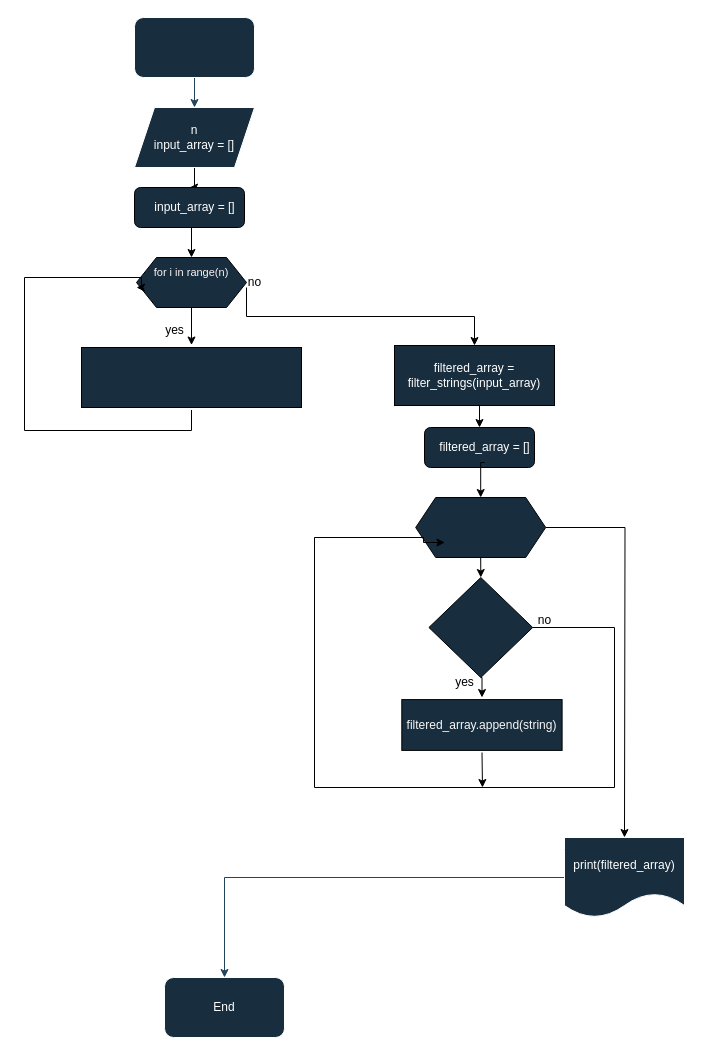
The diagram is 702 pixels wide and 1055 high, and some of its shapes have lost their labels. Each missing label, with the centre of its shape:
for string in input_array: (480,527)
len(string) <= 3:: (480,627)
Start: (194,47)
string = input(f"Введите строку {i + 1}: ") input_array.append(string): (191,377)
